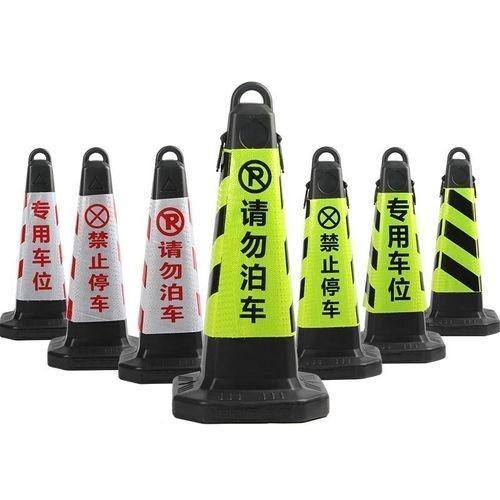cone_barrel: (183, 90, 321, 423), (122, 153, 211, 383), (291, 159, 378, 378), (53, 152, 135, 373), (359, 154, 443, 358), (422, 153, 497, 332), (2, 152, 72, 338)
